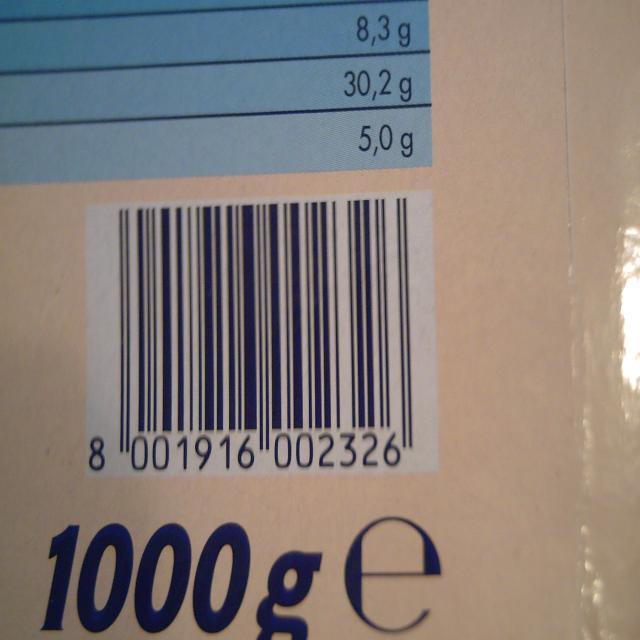barcode: (80, 191, 439, 483)
